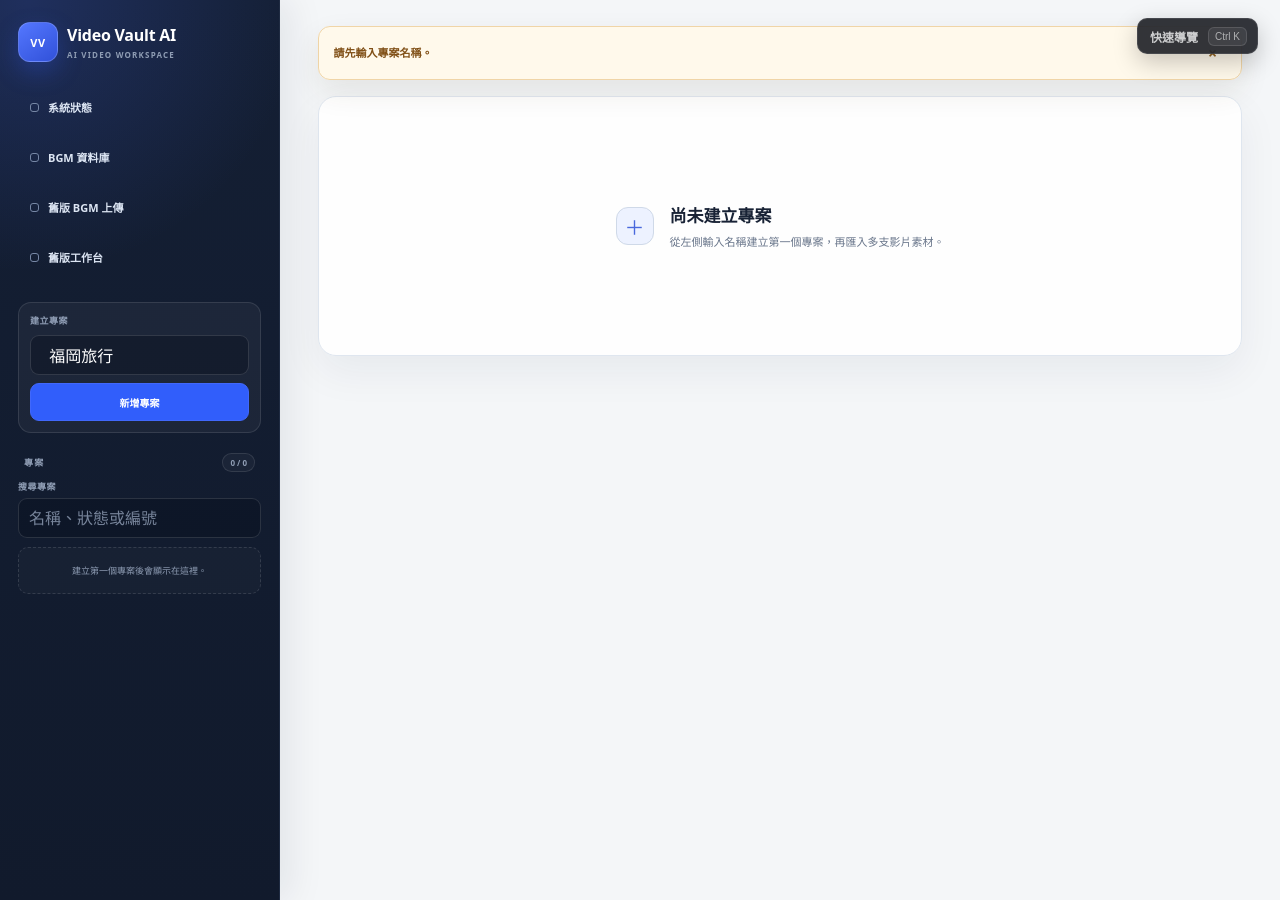
Test: project navigation › does not create twice when Enter is re-entered before the first request settles
Replace the text in the field labelled "建立專案" with "新旅程" at (140, 355), box [30,335,249,375]
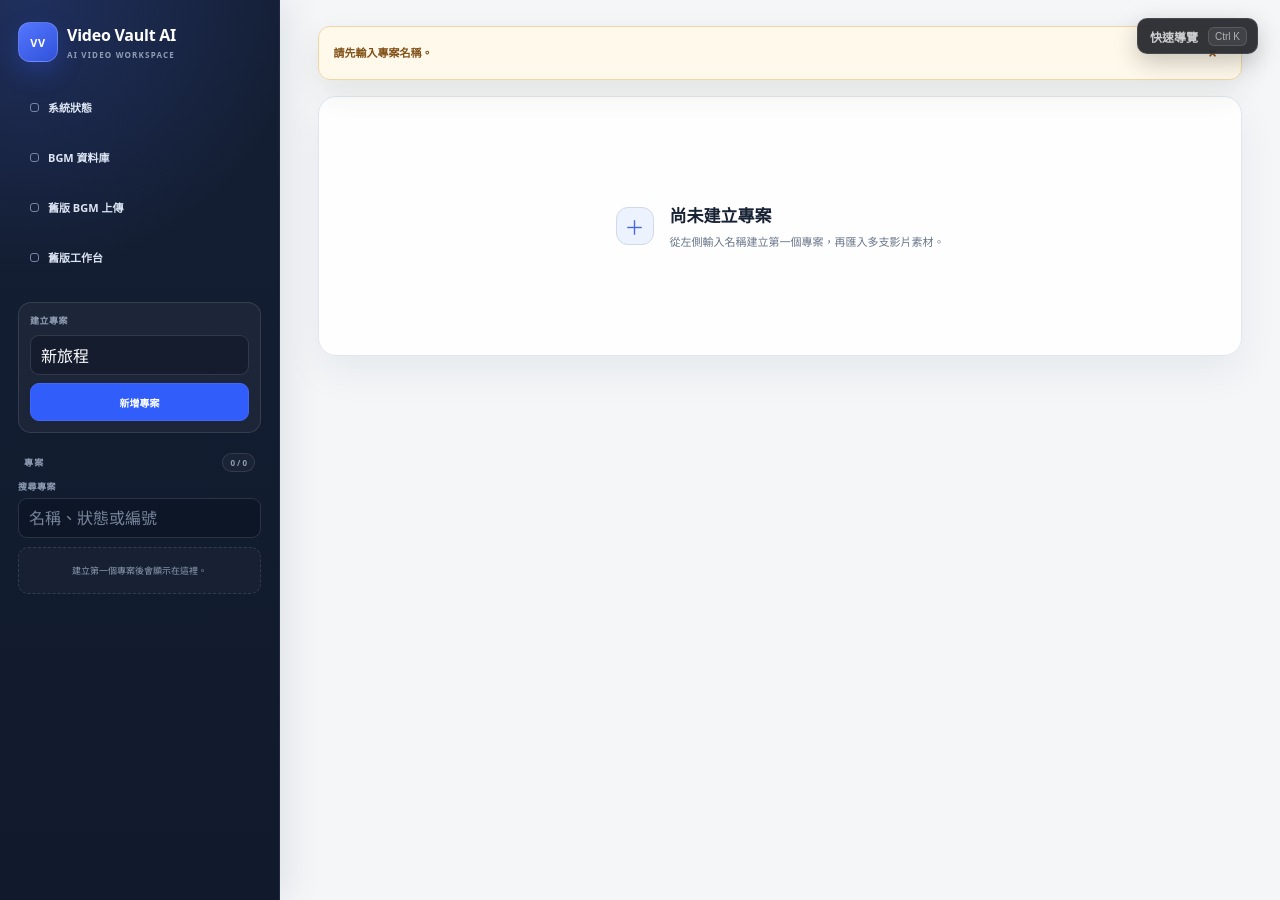
Press Enter in the field labelled "建立專案", box [30,335,249,375]
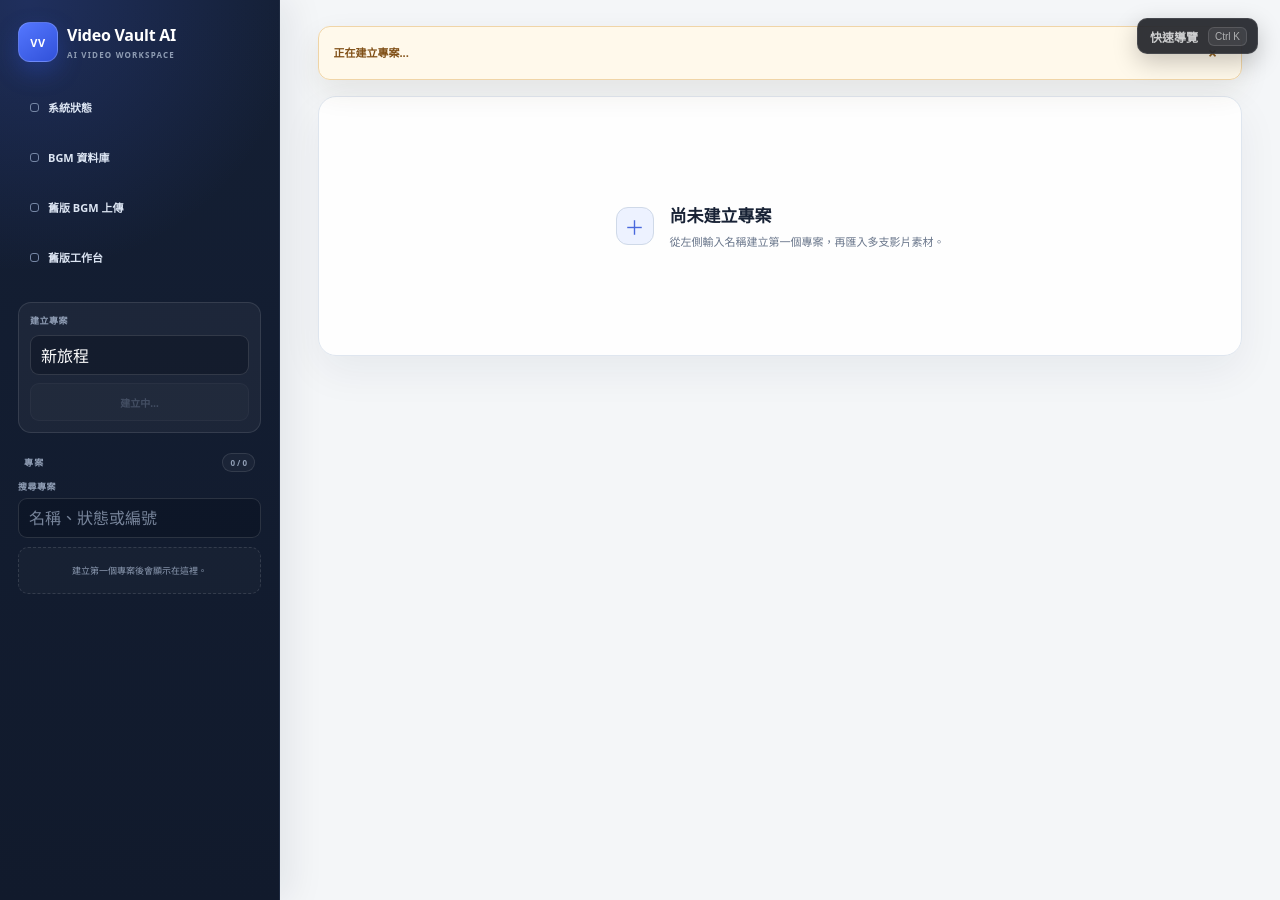
Press Enter in the field labelled "建立專案", box [30,335,249,375]
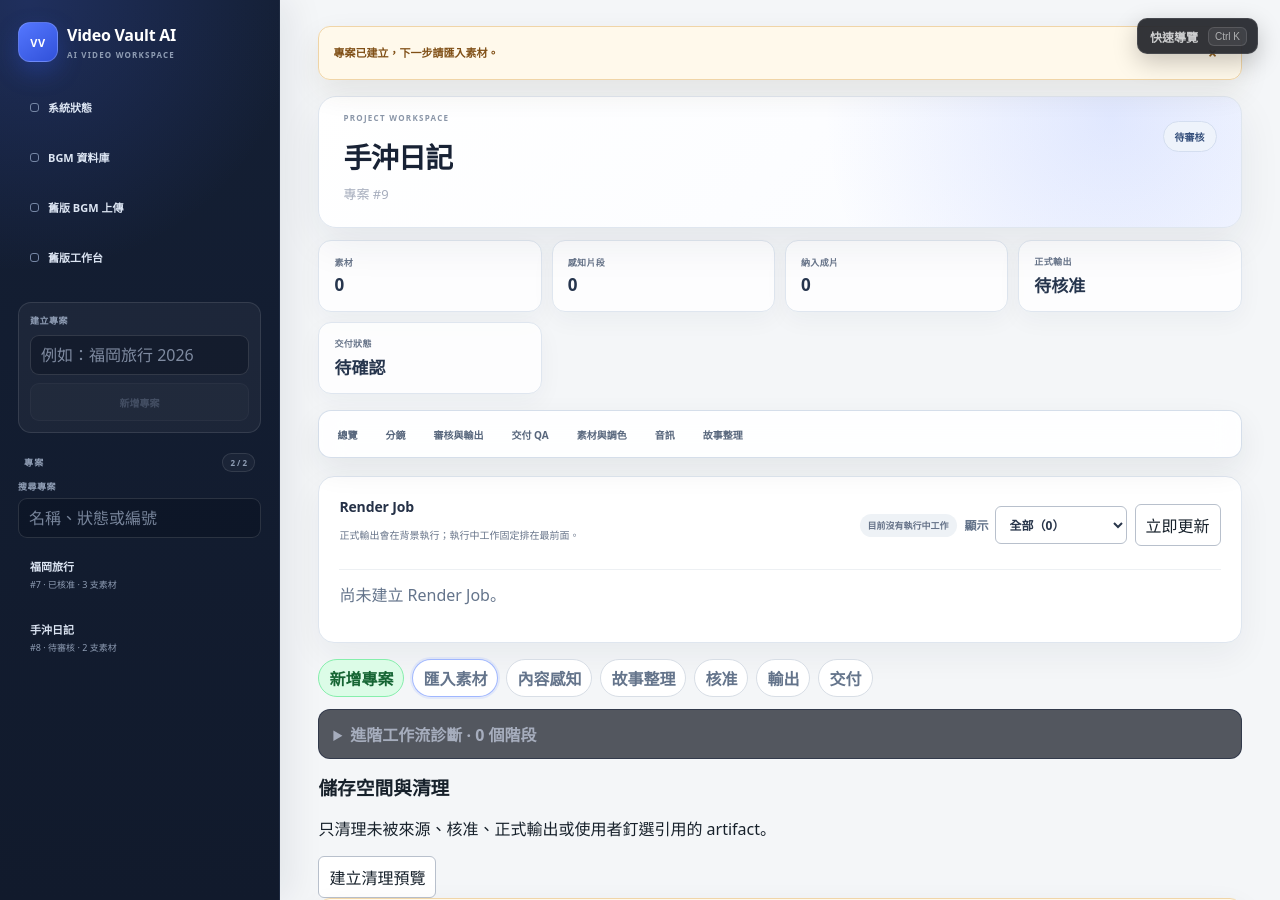
Check: the text "專案已建立，下一步請匯入素材。" is shown, box [333,45,498,61]
